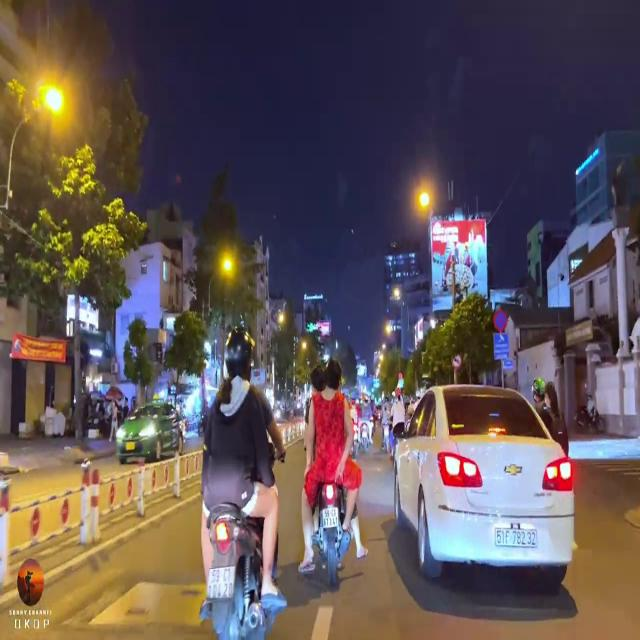bien_trang: (203, 560, 238, 602), (495, 524, 538, 550), (320, 504, 341, 534)
